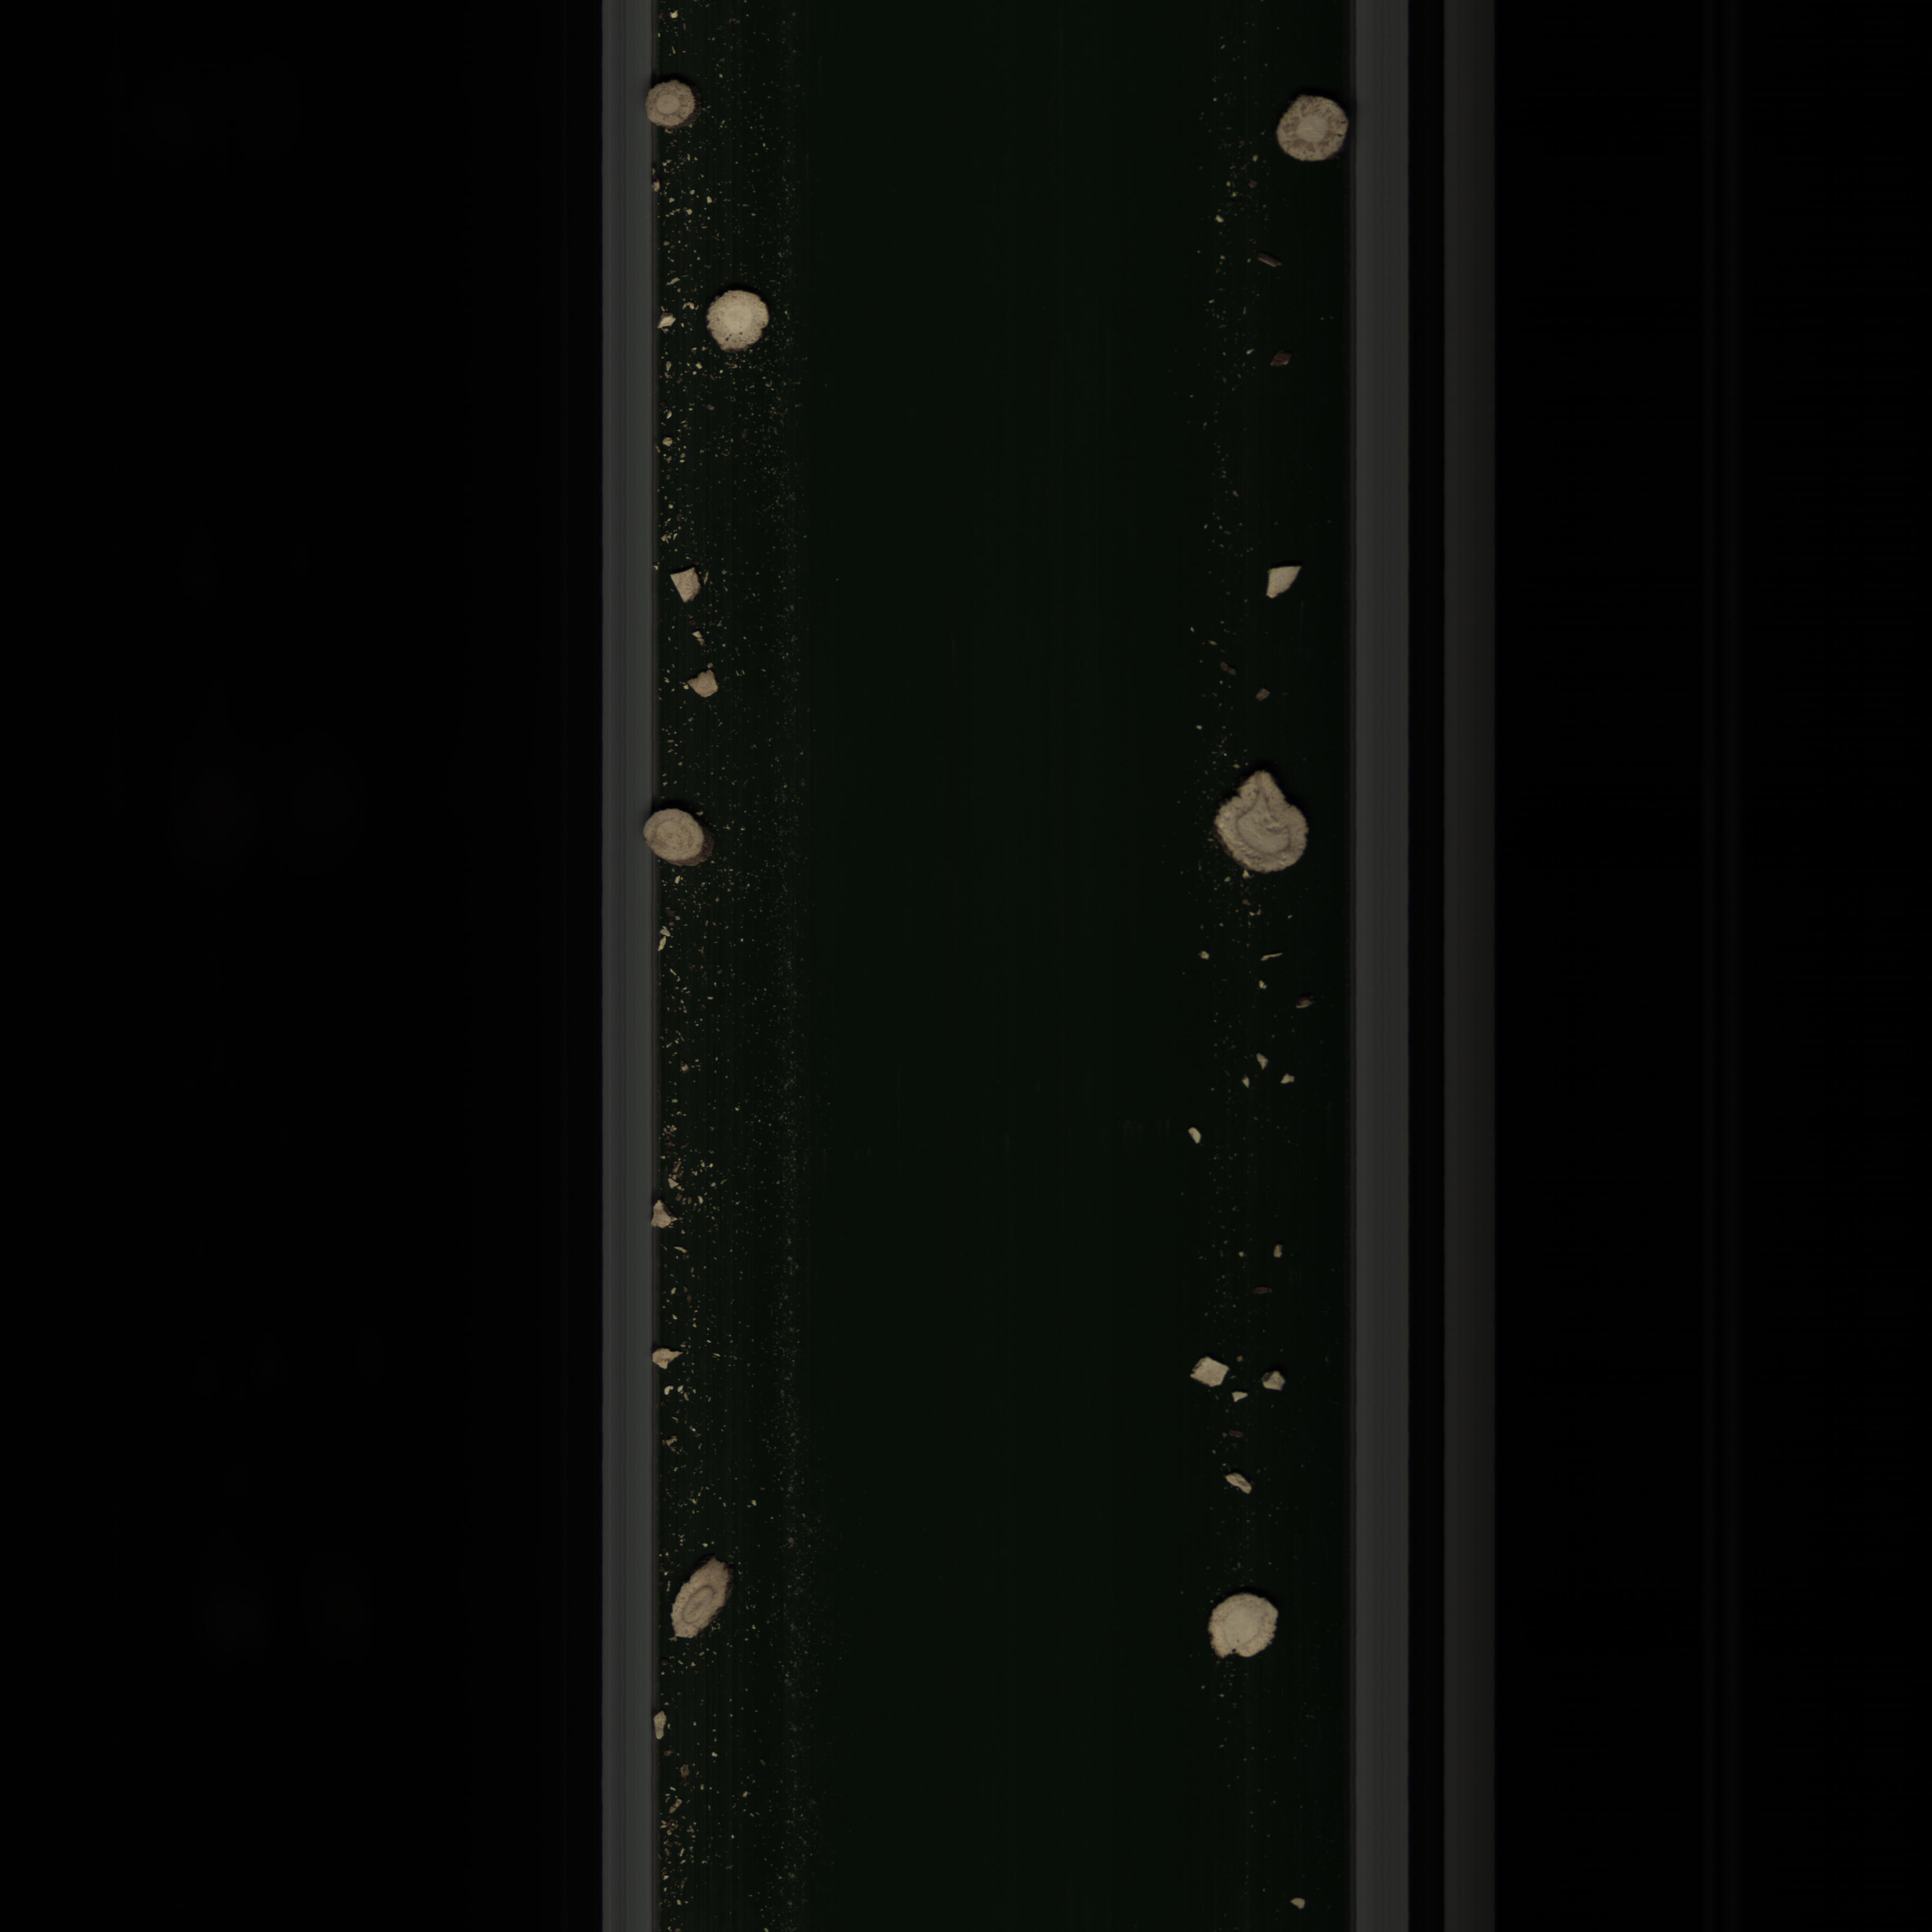debris: (660, 563, 709, 607), (1267, 557, 1306, 610), (1180, 1350, 1231, 1387), (685, 665, 736, 701)
distortion: (1198, 763, 1327, 886), (671, 1552, 731, 1645), (1221, 1465, 1256, 1497), (1261, 1366, 1283, 1394)
moldy: (1261, 87, 1355, 168), (639, 80, 709, 129)
